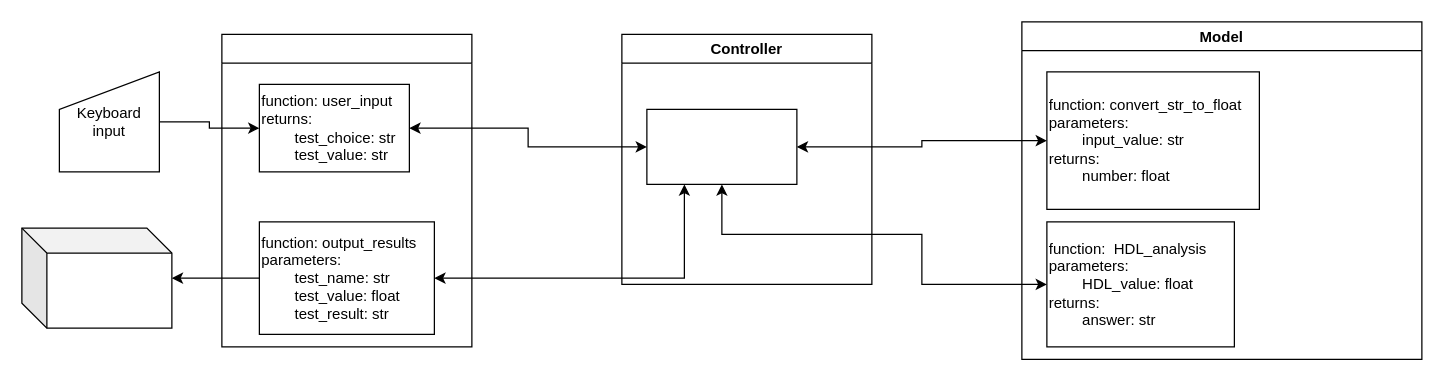
This 1444x381 diagram has some shape labels left out. The shapes that lost their labels are listed below. From the top down, each one's box as (x1, y1, x2, y2) in pixels, then its label:
(646, 108, 797, 184): function: controller
(221, 33, 472, 347): View
(21, 227, 172, 328): Screen
